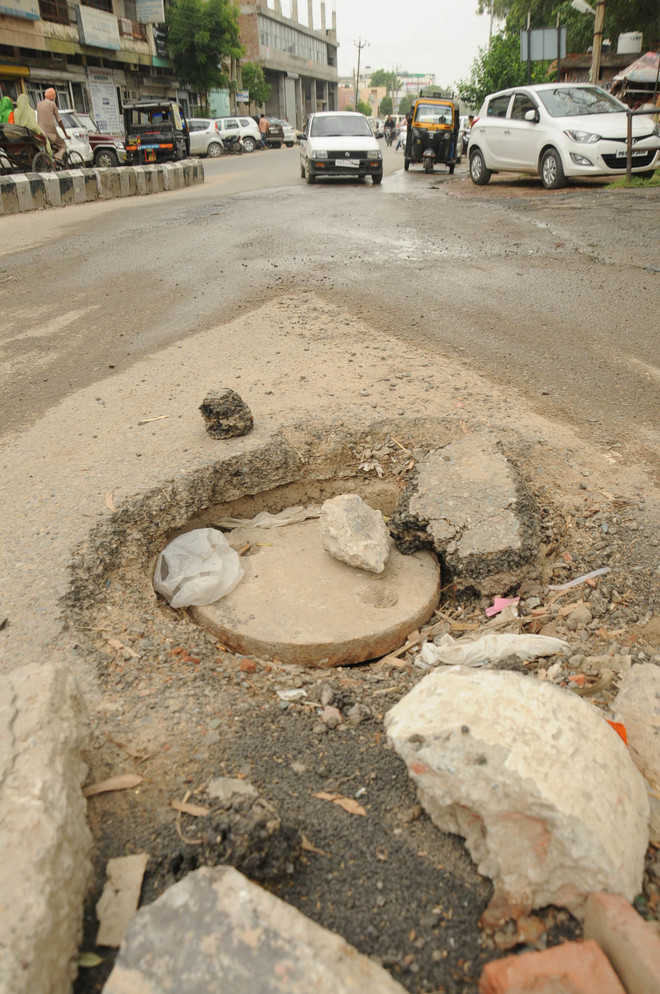Manhole-Closed: (167, 470, 472, 667)
